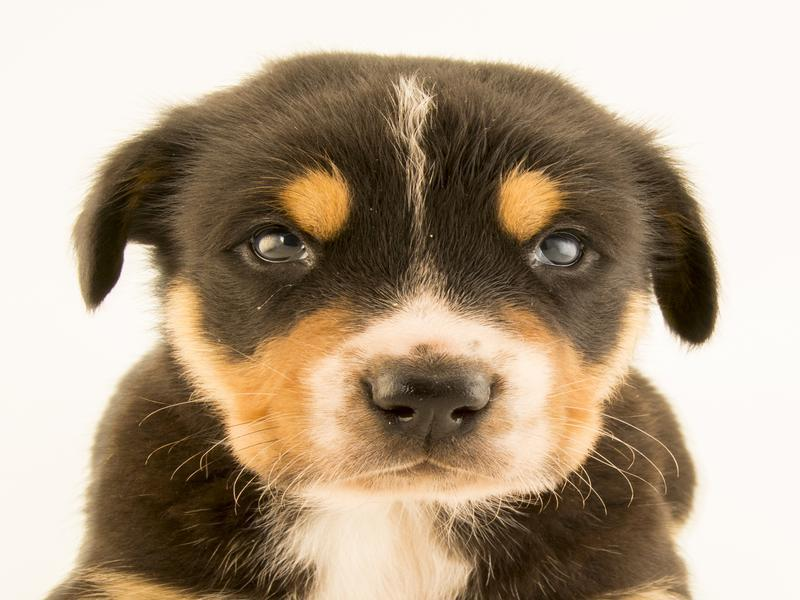dog: (42, 49, 726, 599)
